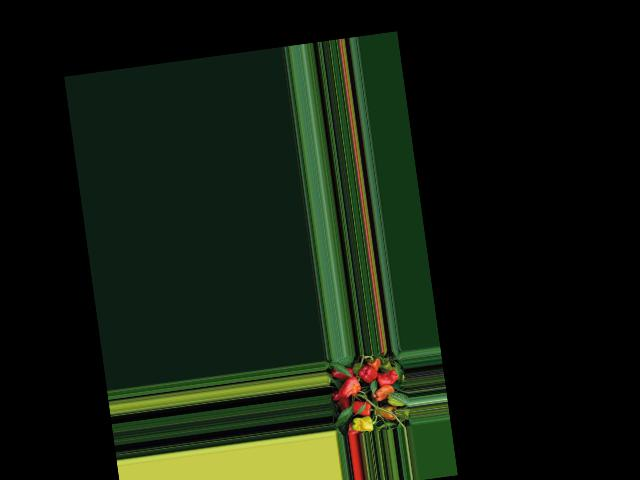bell_pepper: (369, 356, 381, 370)
